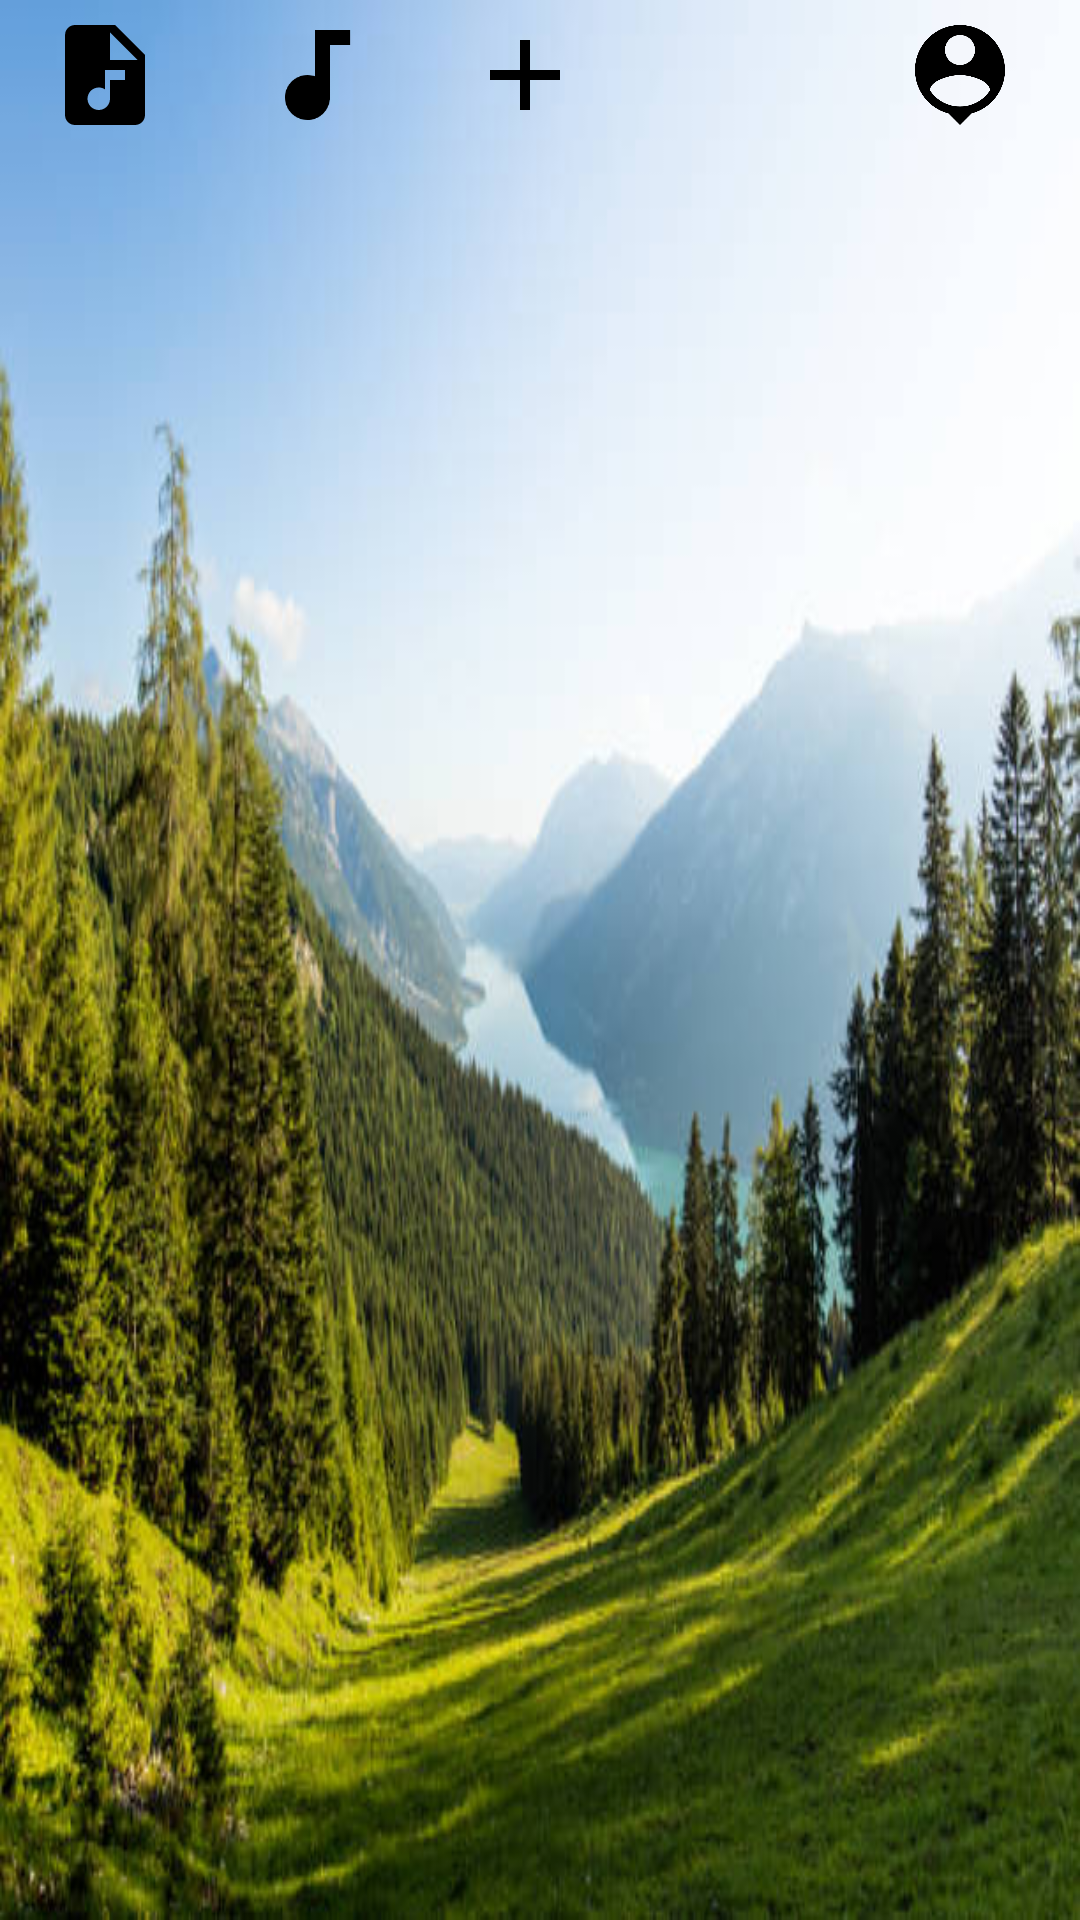

Icons on this 1080px x 1920px Android screen, each with its box as (x1, y1, x2, y2):
audio file: (65, 25, 145, 125)
user: (915, 15, 1065, 135)
